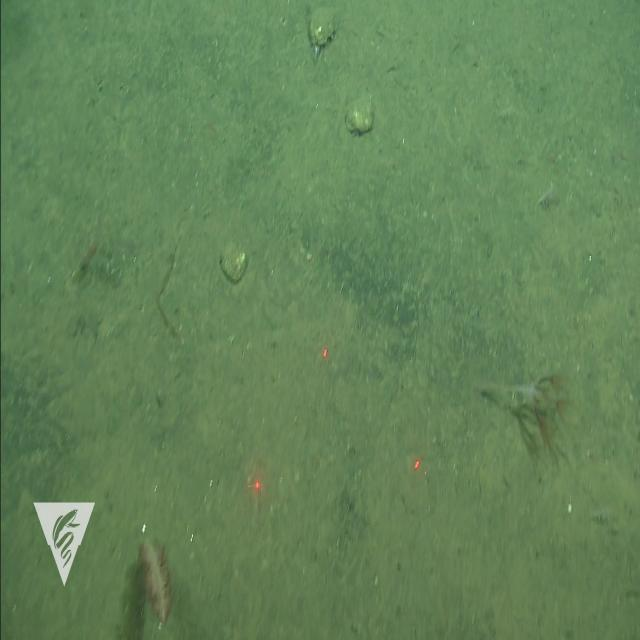Not Brittle Star: (517, 368, 574, 460)
